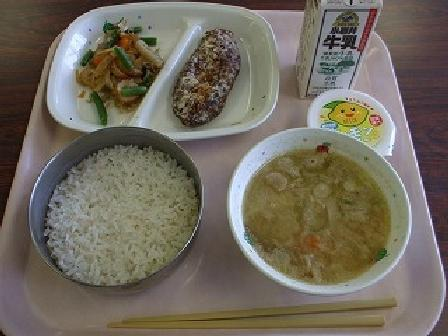Cup desserts: (288, 86, 402, 152)
Milk: (296, 0, 383, 88)
Rice: (26, 127, 202, 288)
cutlet: (166, 26, 255, 121)
soup-plain: (232, 136, 409, 291)
vegetable based cooked food: (61, 17, 163, 108)
